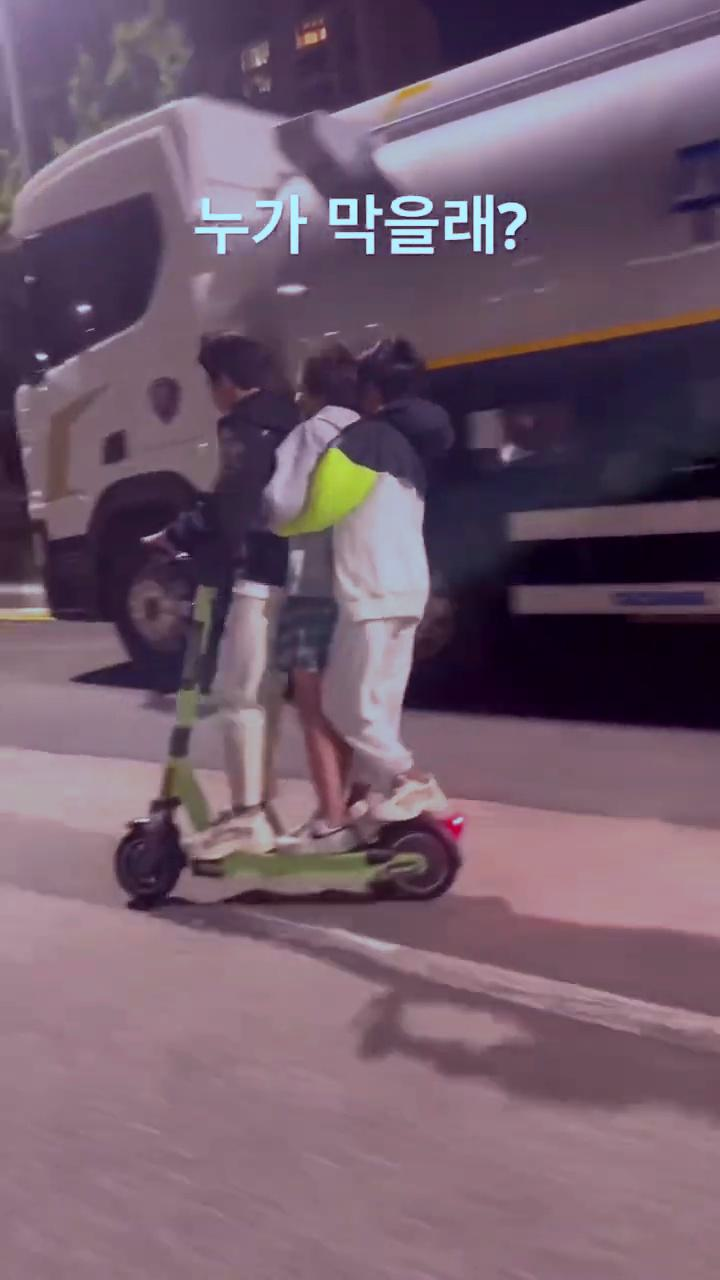multiple: (111, 325, 471, 908)
